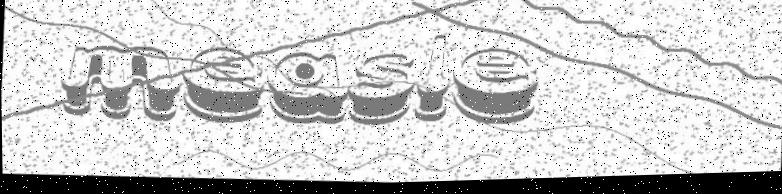a: (266, 51, 351, 128)
e: (450, 49, 541, 130), (180, 47, 266, 126)
l: (414, 37, 450, 125)
m: (58, 42, 183, 125)
s: (346, 54, 417, 129)
